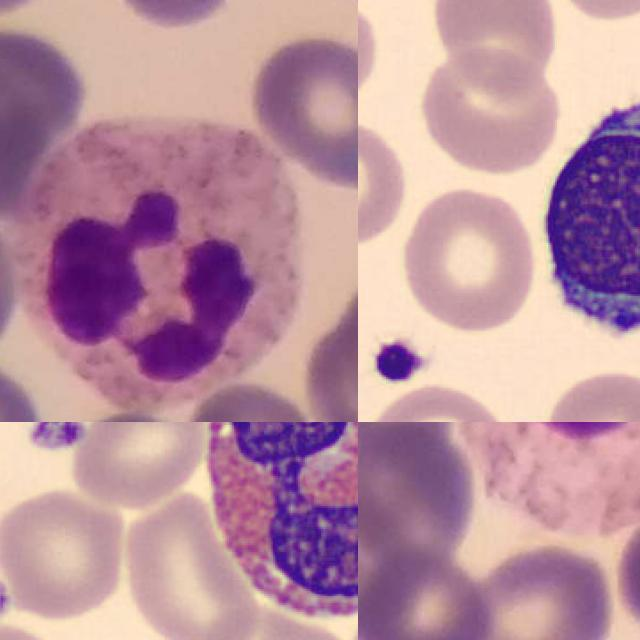Eosinophil: (191, 422, 358, 633)
Lymphocyte: (524, 75, 640, 357)
Neutrophil: (19, 115, 301, 412), (454, 422, 640, 543)
Platelets: (367, 336, 427, 386), (22, 422, 89, 454), (0, 575, 13, 628)
RBC: (120, 484, 262, 640), (397, 183, 539, 333), (416, 49, 566, 174), (0, 486, 132, 620), (66, 422, 214, 509), (428, 0, 560, 96), (358, 116, 411, 252), (359, 380, 517, 422), (540, 364, 640, 422), (196, 606, 358, 640), (358, 0, 384, 123)
